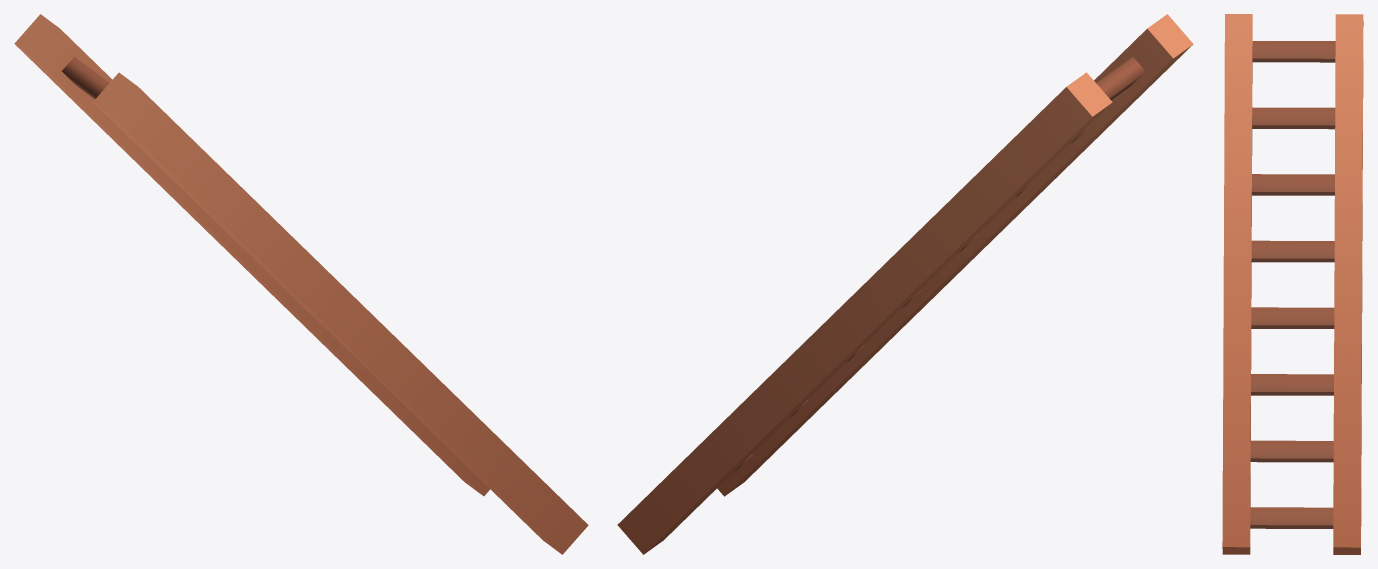
Rendered from n5_n5_n5_ladder-long_lev5.glb.
3 views of the same model, side by side, from view 1: azimuth 30°, elevation 25°; view 2: azimuth 150°, elevation 25°; view 3: azimuth 270°, elevation 25° (orthographic). The views are drawn at different scales.
Visible parts, largest first — view 1: n5_n5_n5_ladder-long_lev5; view 2: n5_n5_n5_ladder-long_lev5; view 3: n5_n5_n5_ladder-long_lev5.
Part boxes in pixels (bbox=[...]): n5_n5_n5_ladder-long_lev5: bbox=[14, 14, 588, 554]; n5_n5_n5_ladder-long_lev5: bbox=[617, 14, 1193, 554]; n5_n5_n5_ladder-long_lev5: bbox=[1222, 14, 1363, 554].
Size of the model in its own units: 1.38 by 1.58 by 0.5095.
Materials: 1 (1 with a texture image).
